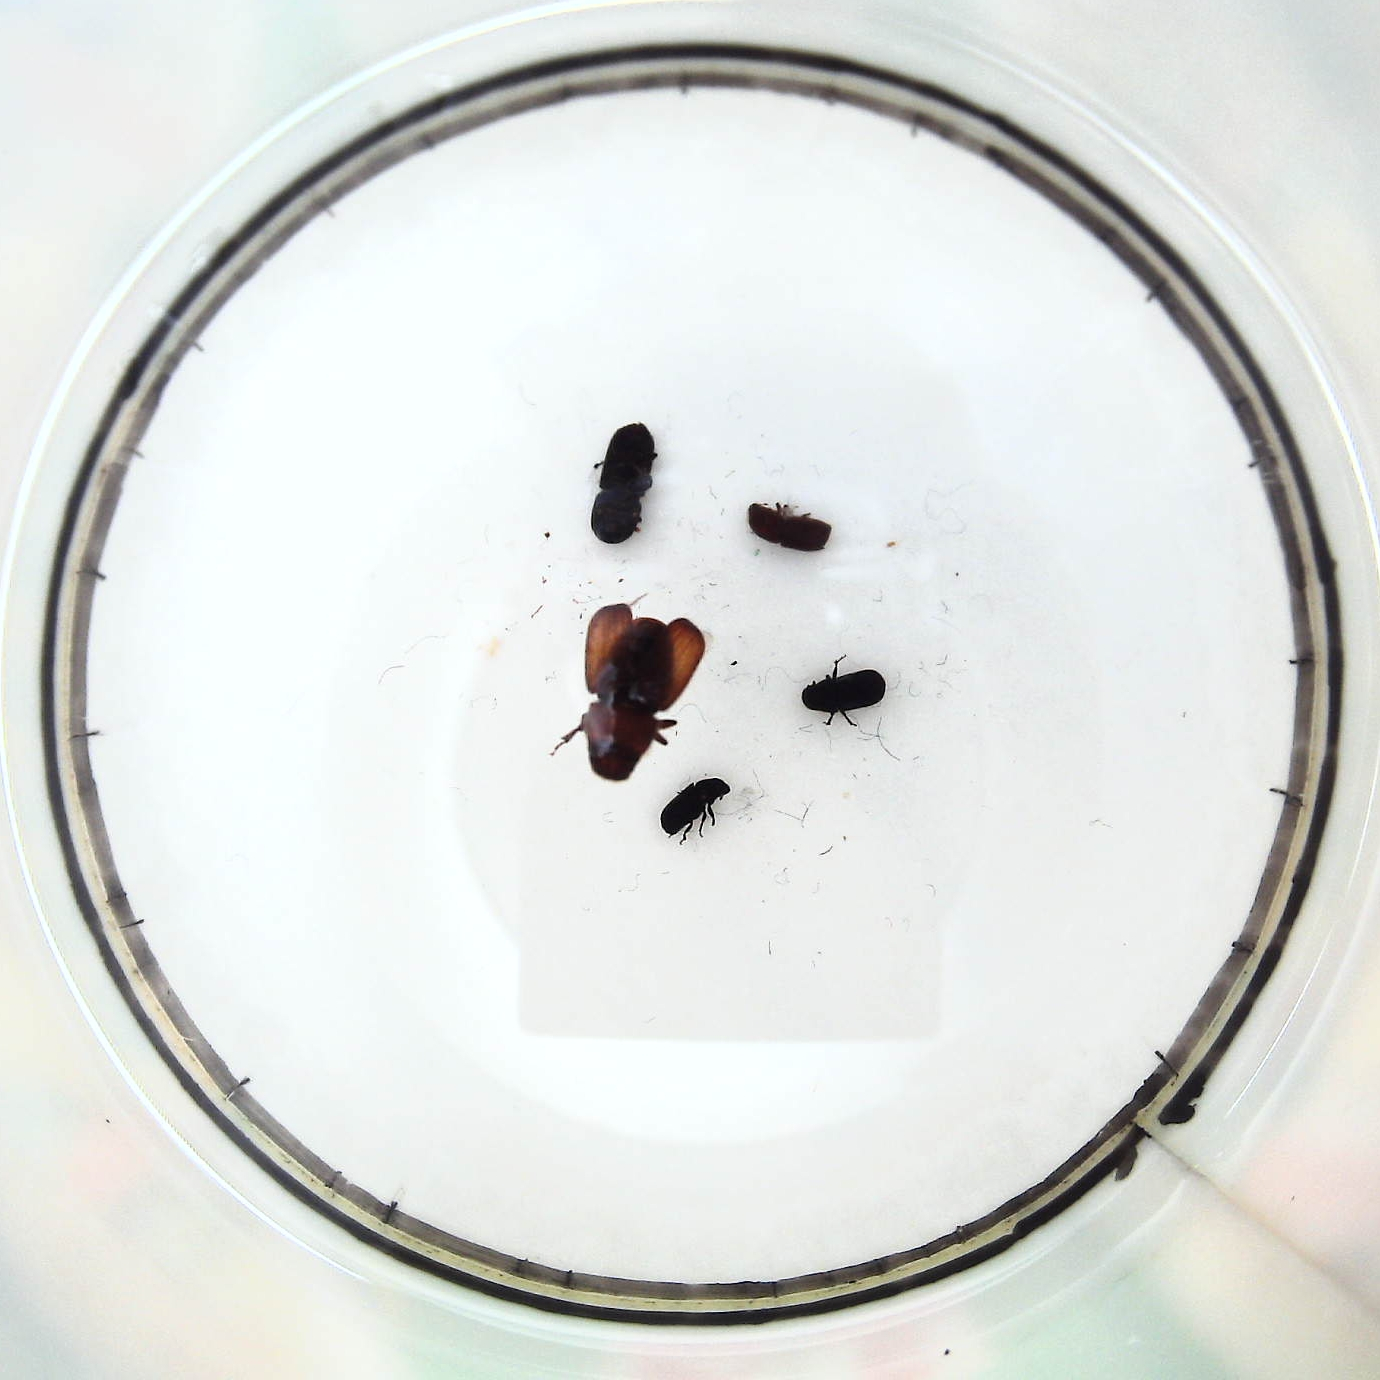Boerner: (588, 421, 655, 545)
Leconte: (579, 603, 706, 778)
Linnaeus: (743, 497, 832, 560)
armandi: (804, 669, 888, 719)
coleoptera: (661, 777, 730, 837)
